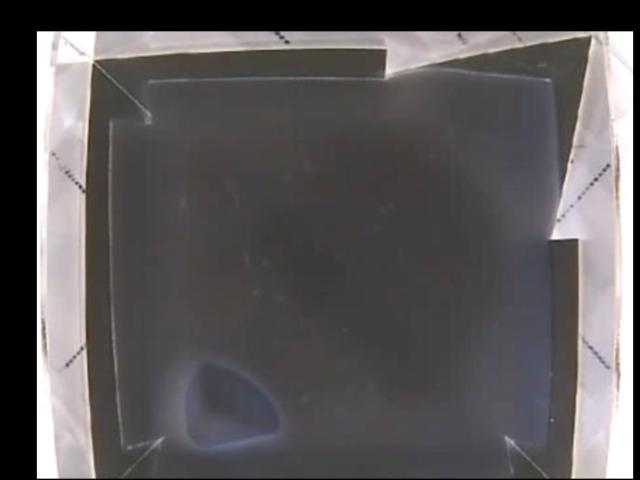Mooli: (186, 359, 282, 447)
